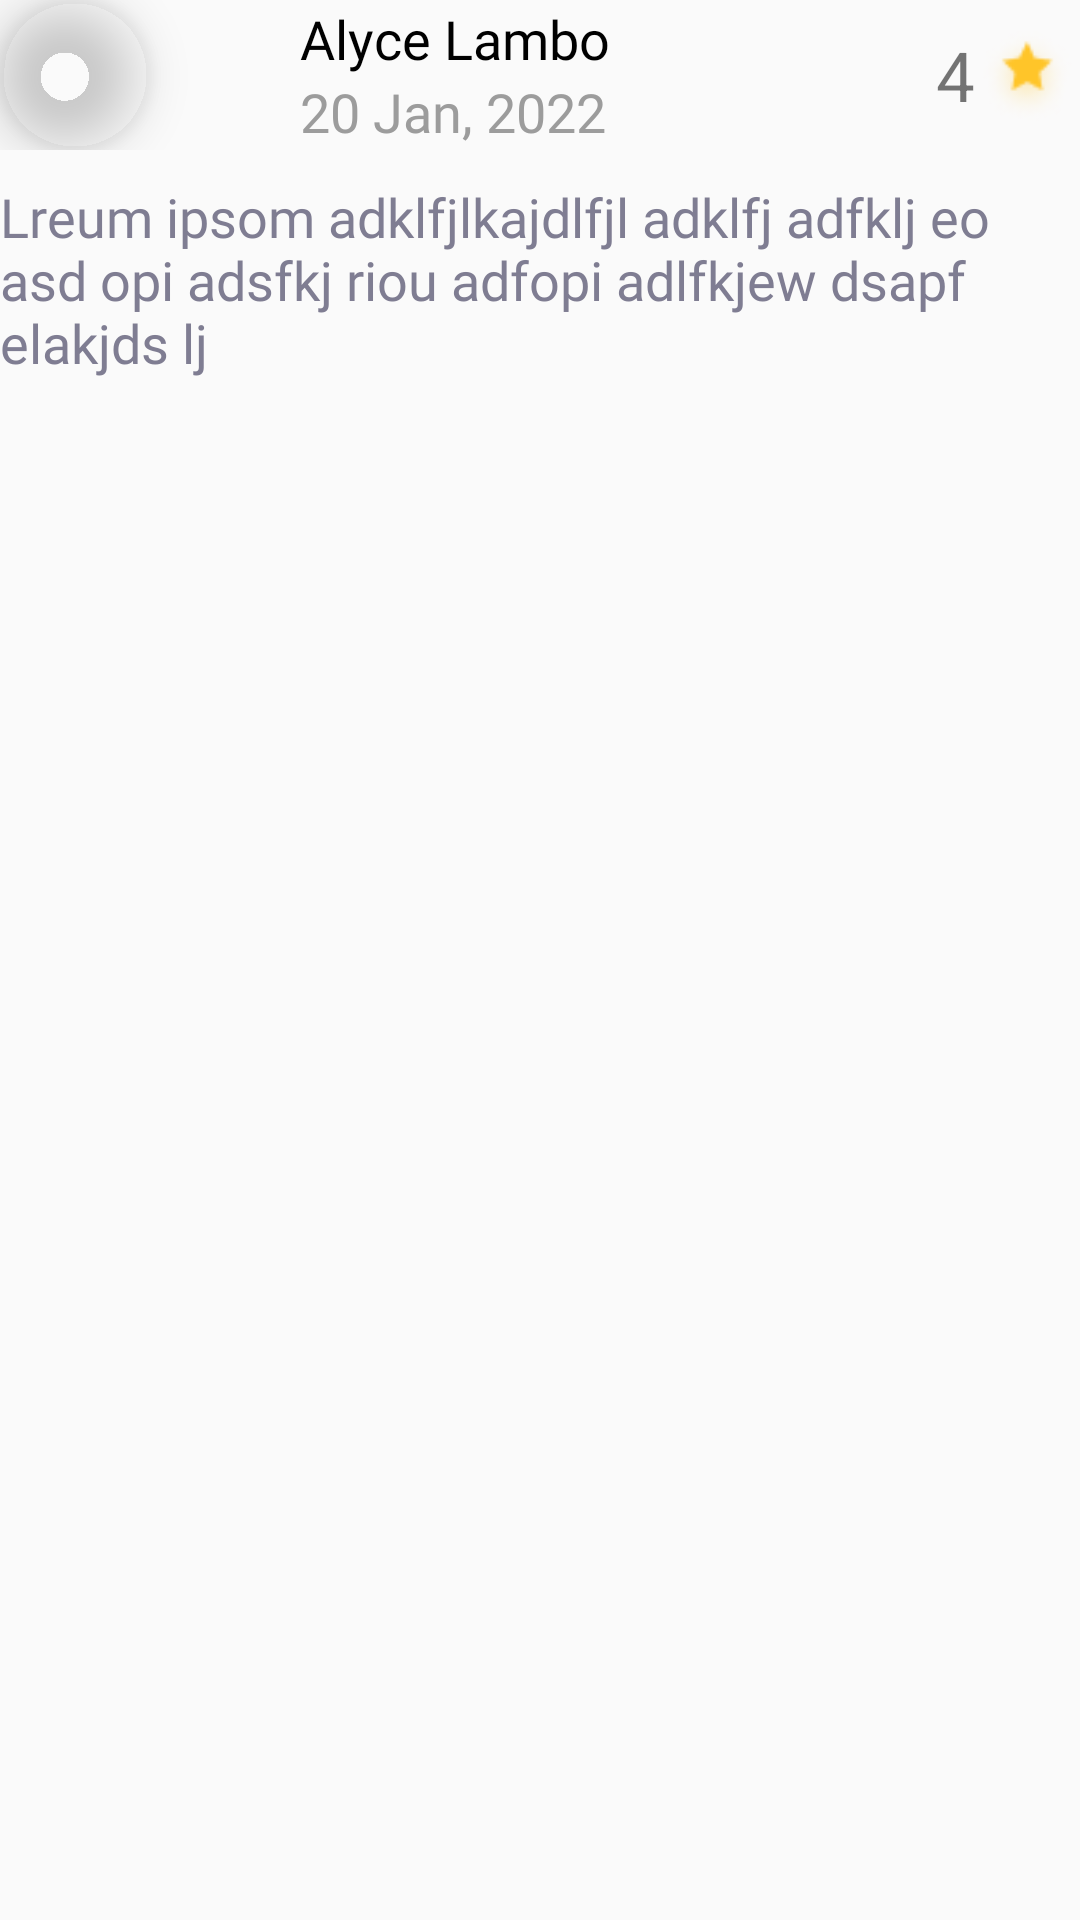

Icon click points for this 1080*1920 phone screenshot, format (x=x, y=y):
star: (x=1027, y=69)
